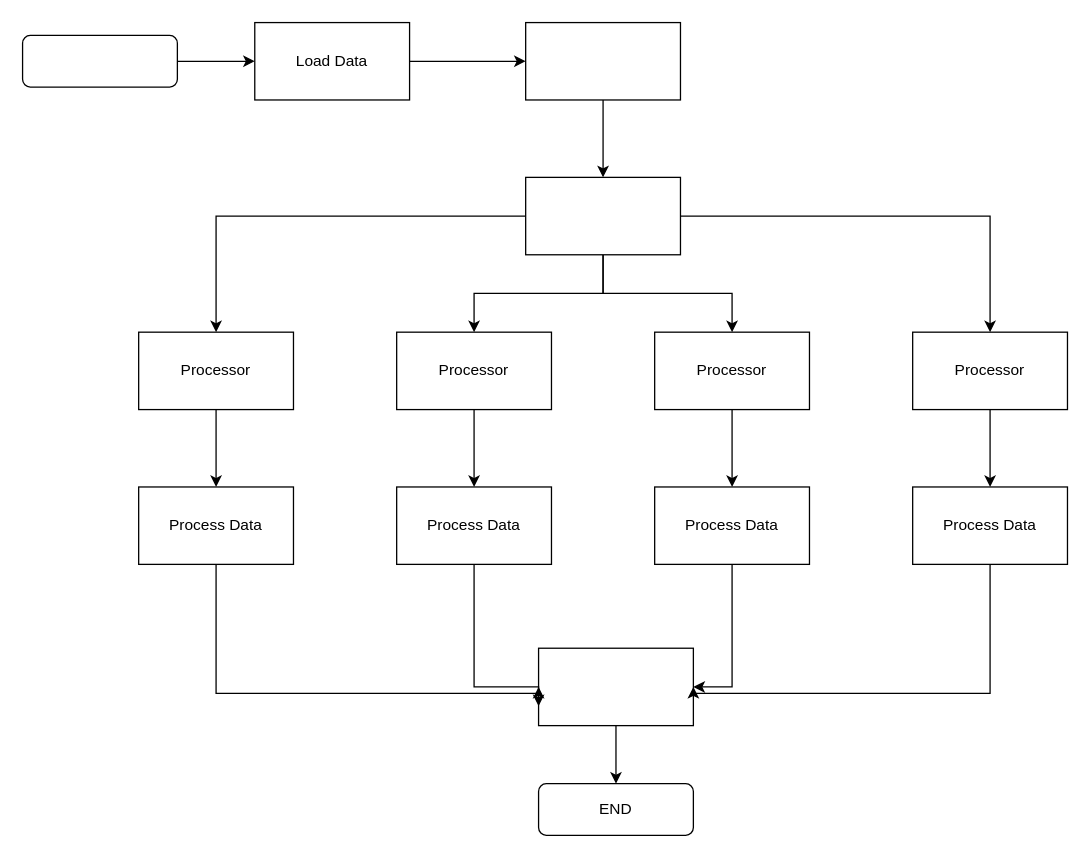
Image size: 1090x858. Some labels were removed from this diagram. The centre of each missing label's shape, as x and y in pixels:
"Parallel Processor" goes at (602,215).
"Record Total time" goes at (615,686).
"Set Number of workers 4" goes at (602,60).
"Start" goes at (99,60).
